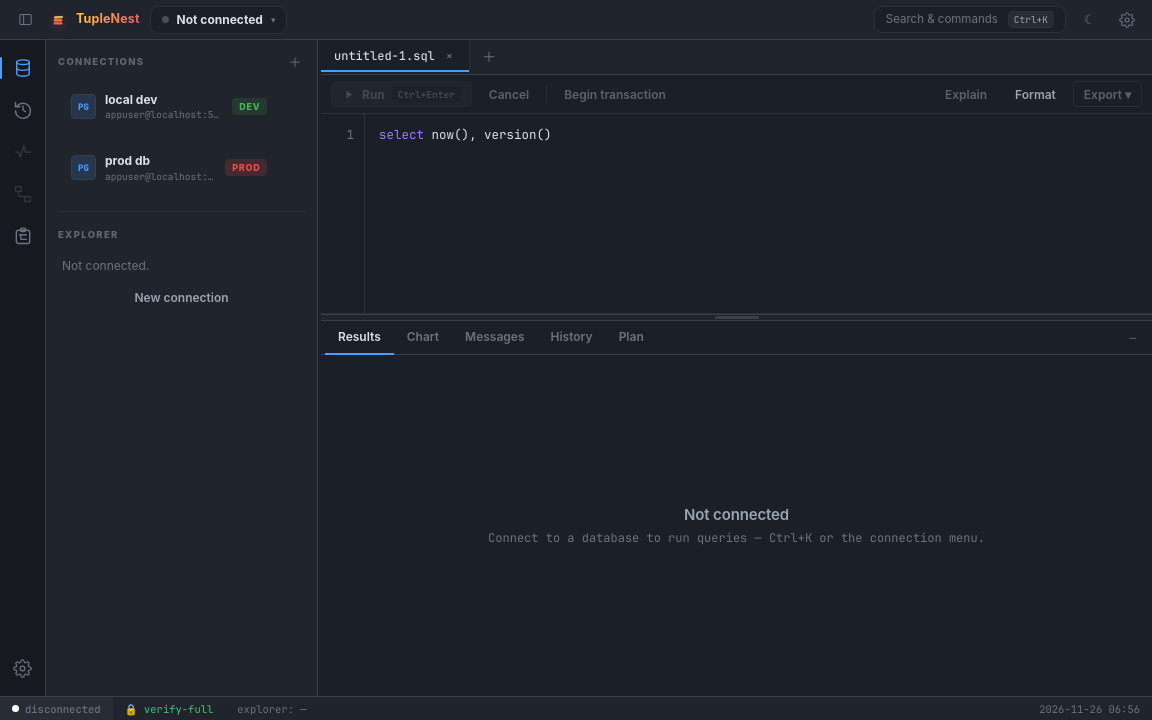
Scenario: App — the write guard › stops an unqualified DELETE against production
This screenshot has width=1152, height=720.
Check: the text "local dev" is shown, box [105,91,158,108]
Step 1. Type keys "{Meta>}k{/Meta}"
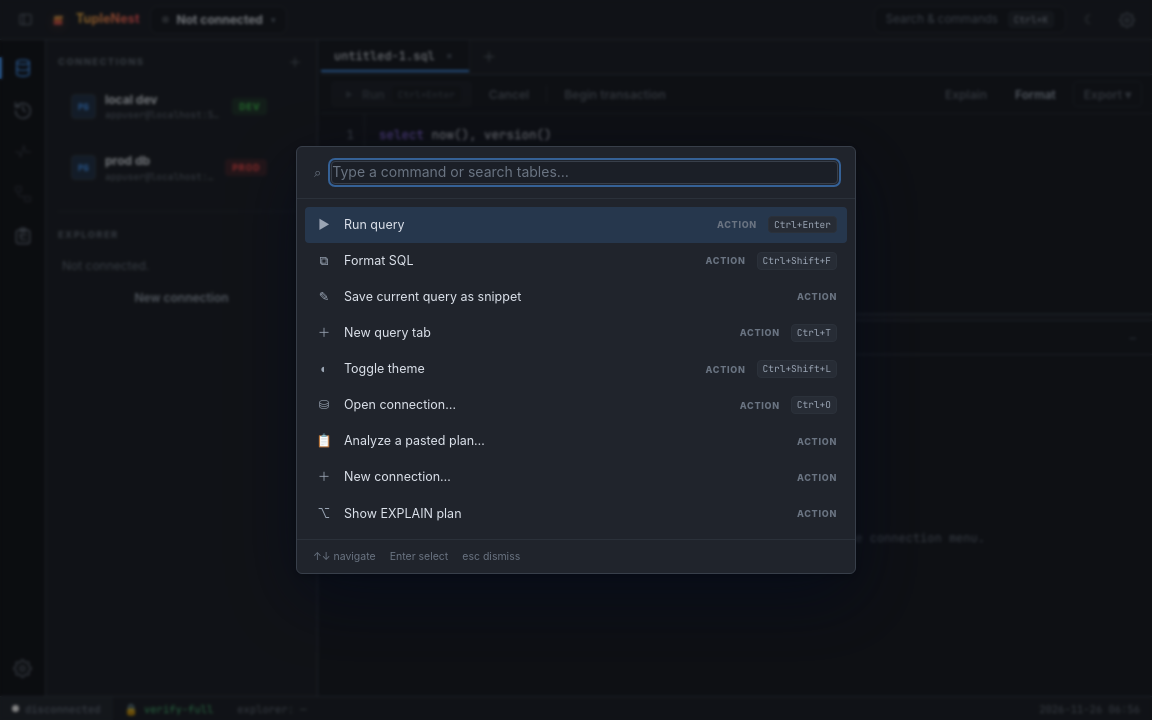
Step 2. Type "Connect to prod db" into the field with placeholder "Type a command or search tables…" → (585, 172), box [331,161,838,184]
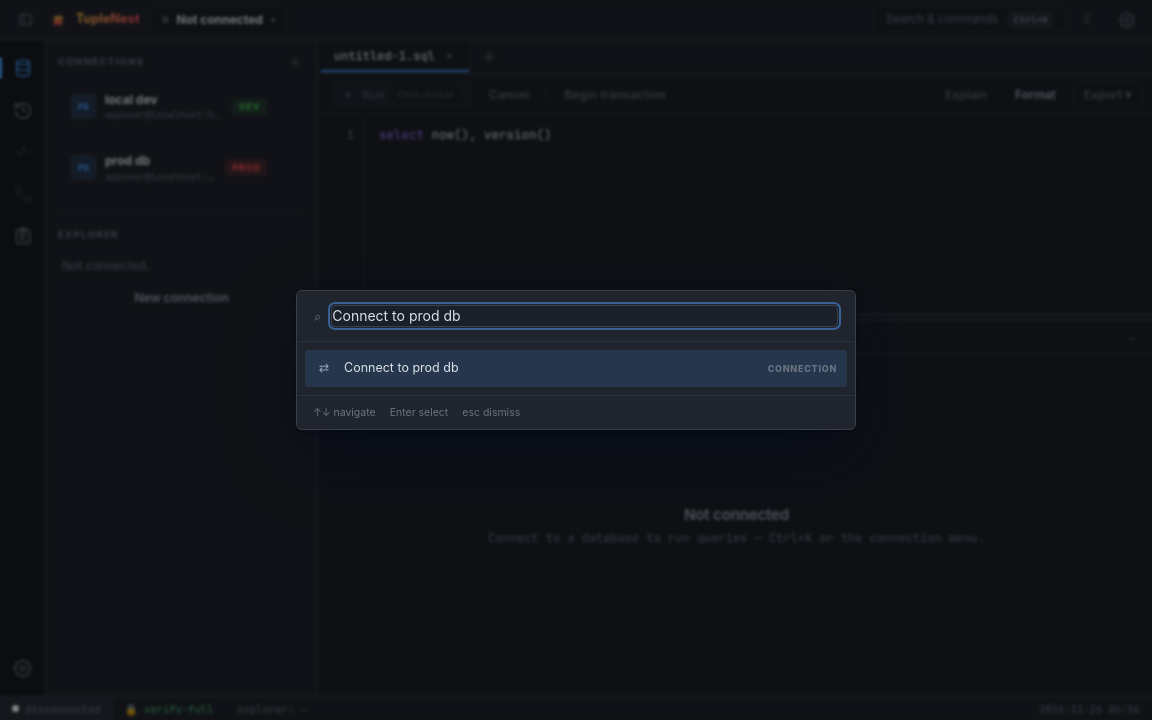
Step 3. Press Enter
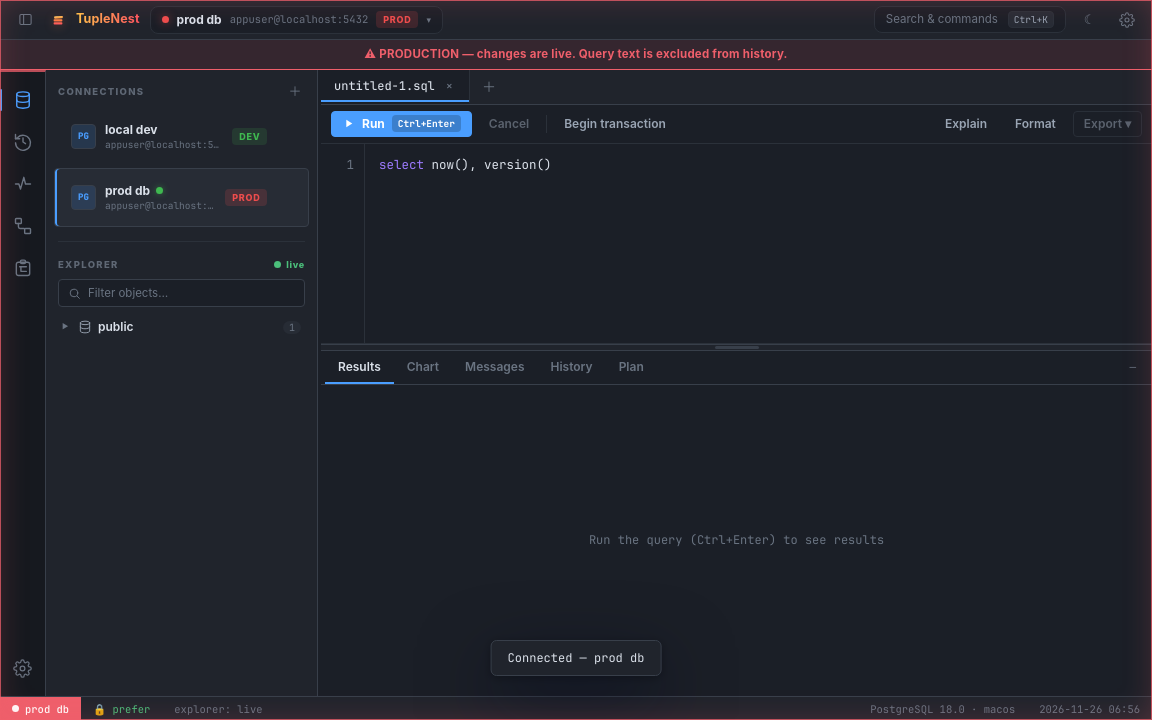
Step 4. Replace the text in the text box named "sql editor" with "delete from users" → (736, 243), box [321,144,1151,343]
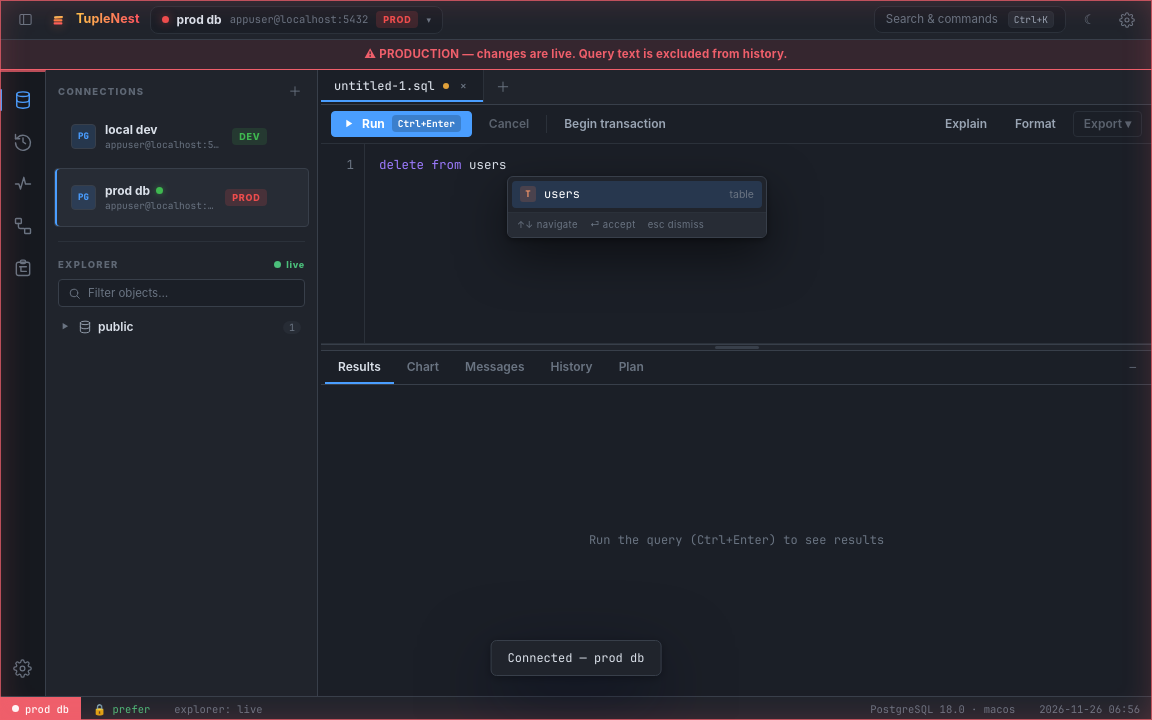
Step 5. Click the button "Run Ctrl+Enter" → (401, 124), box [331,111,472,137]
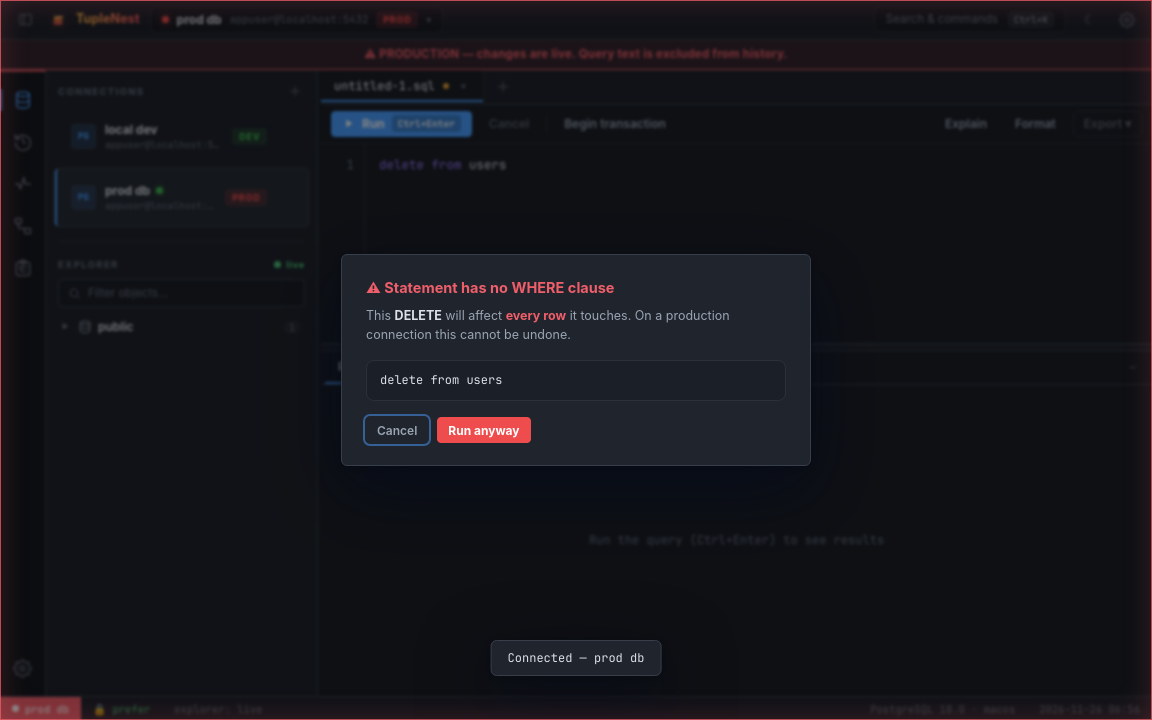
Check: the text "⚠ Statement has no WHERE clause" is shown, box [366,278,614,296]
